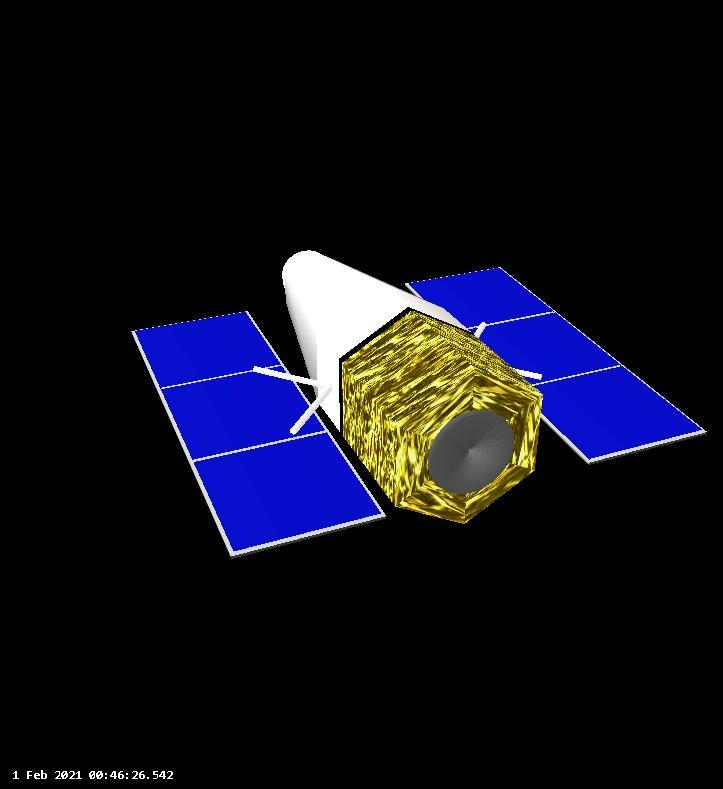body: (280, 249, 547, 527)
solar: (129, 309, 388, 560), (404, 264, 710, 466)
